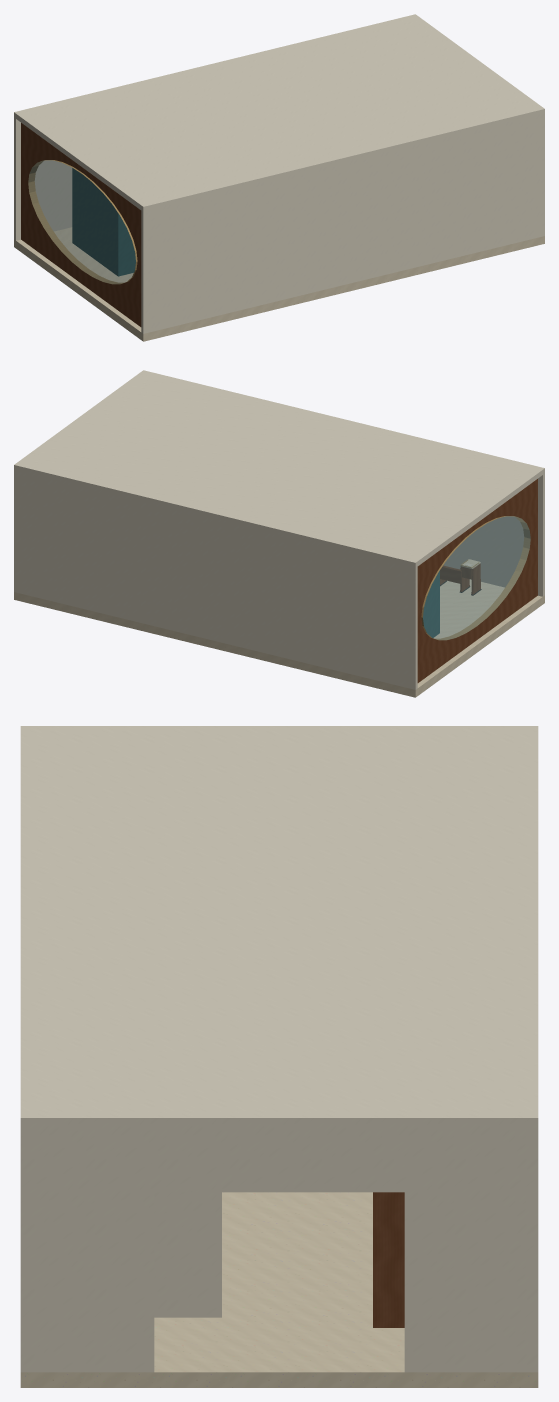
Rendered from QuietGroveSpecialty_141_r002.glb.
3 views of the same model, one above another, from view 1: azimuth 30°, elevation 25°; view 2: azimuth 150°, elevation 25°; view 3: azimuth 270°, elevation 25° (orthographic). The views are drawn at different scales.
Visible parts, largest first — view 1: QG141_Ceiling, QG141_SouthSide, QG141_OvalAtriumGlass, QG141_RoomFloor, QG141_OvalWindowReveal, QG141_Cocoon_RearLiner, QG141_NorthSide, QG141_OvalDepthReturn, QG141_Cocoon_LeftLiner; view 2: QG141_Ceiling, QG141_NorthSide, QG141_OvalAtriumGlass, QG141_RoomFloor, QG141_OvalWindowReveal, QG141_SouthSide, QG141_OvalDepthReturn, QG141_Cocoon_RearLiner; view 3: QG141_Ceiling, QG141_RoomFloor, QG141_EntryShoulderNorth, QG141_EntryShoulderSouth, QG141_EntryHeader, QG141_WashEntrySide, QG141_EntryPrivacyDogleg, QG141_NorthSide, QG141_SouthSide.
Part boxes in pixels (x1=…): QG141_Ceiling: x1=14, y1=14, x2=544, y2=211; QG141_SouthSide: x1=141, y1=114, x2=544, y2=333; QG141_OvalAtriumGlass: x1=28, y1=160, x2=135, y2=283; QG141_RoomFloor: x1=14, y1=227, x2=544, y2=341; QG141_OvalWindowReveal: x1=21, y1=123, x2=141, y2=326; QG141_Cocoon_RearLiner: x1=73, y1=168, x2=116, y2=275; QG141_NorthSide: x1=14, y1=117, x2=72, y2=240; QG141_OvalDepthReturn: x1=28, y1=160, x2=137, y2=284; QG141_Cocoon_LeftLiner: x1=117, y1=212, x2=135, y2=276; QG141_Ceiling: x1=14, y1=370, x2=544, y2=567; QG141_NorthSide: x1=14, y1=470, x2=417, y2=689; QG141_OvalAtriumGlass: x1=423, y1=516, x2=530, y2=639; QG141_RoomFloor: x1=14, y1=579, x2=544, y2=697; QG141_OvalWindowReveal: x1=417, y1=479, x2=537, y2=682; QG141_SouthSide: x1=443, y1=473, x2=544, y2=596; QG141_OvalDepthReturn: x1=421, y1=516, x2=530, y2=640; QG141_Cocoon_RearLiner: x1=423, y1=572, x2=438, y2=637; QG141_Ceiling: x1=20, y1=726, x2=538, y2=1128; QG141_RoomFloor: x1=20, y1=1192, x2=538, y2=1387; QG141_EntryShoulderNorth: x1=404, y1=1128, x2=529, y2=1372; QG141_EntryShoulderSouth: x1=29, y1=1128, x2=154, y2=1372; QG141_EntryHeader: x1=150, y1=1128, x2=408, y2=1192; QG141_WashEntrySide: x1=154, y1=1192, x2=221, y2=1317; QG141_EntryPrivacyDogleg: x1=373, y1=1192, x2=404, y2=1327; QG141_NorthSide: x1=529, y1=1128, x2=538, y2=1372; QG141_SouthSide: x1=20, y1=1128, x2=29, y2=1372.
Size of the model in its own units: 12.9 by 4.14 by 7.2.
58 materials, 43 textured.
